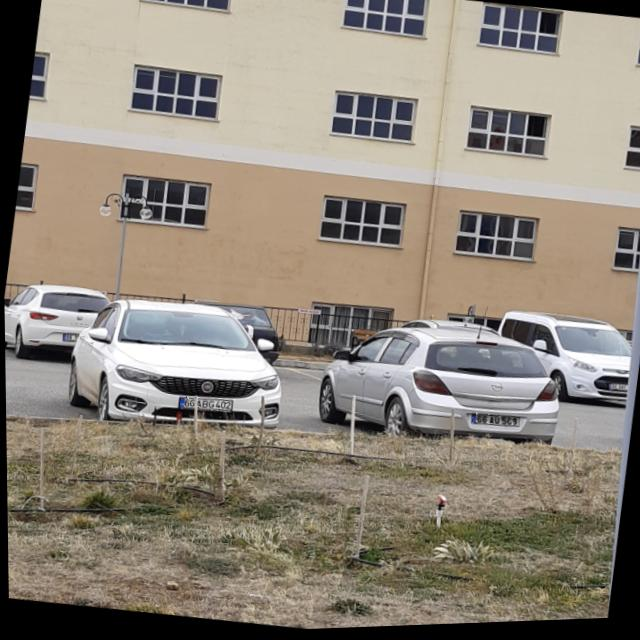license_plate: (178, 396, 231, 415), (469, 414, 519, 433)
